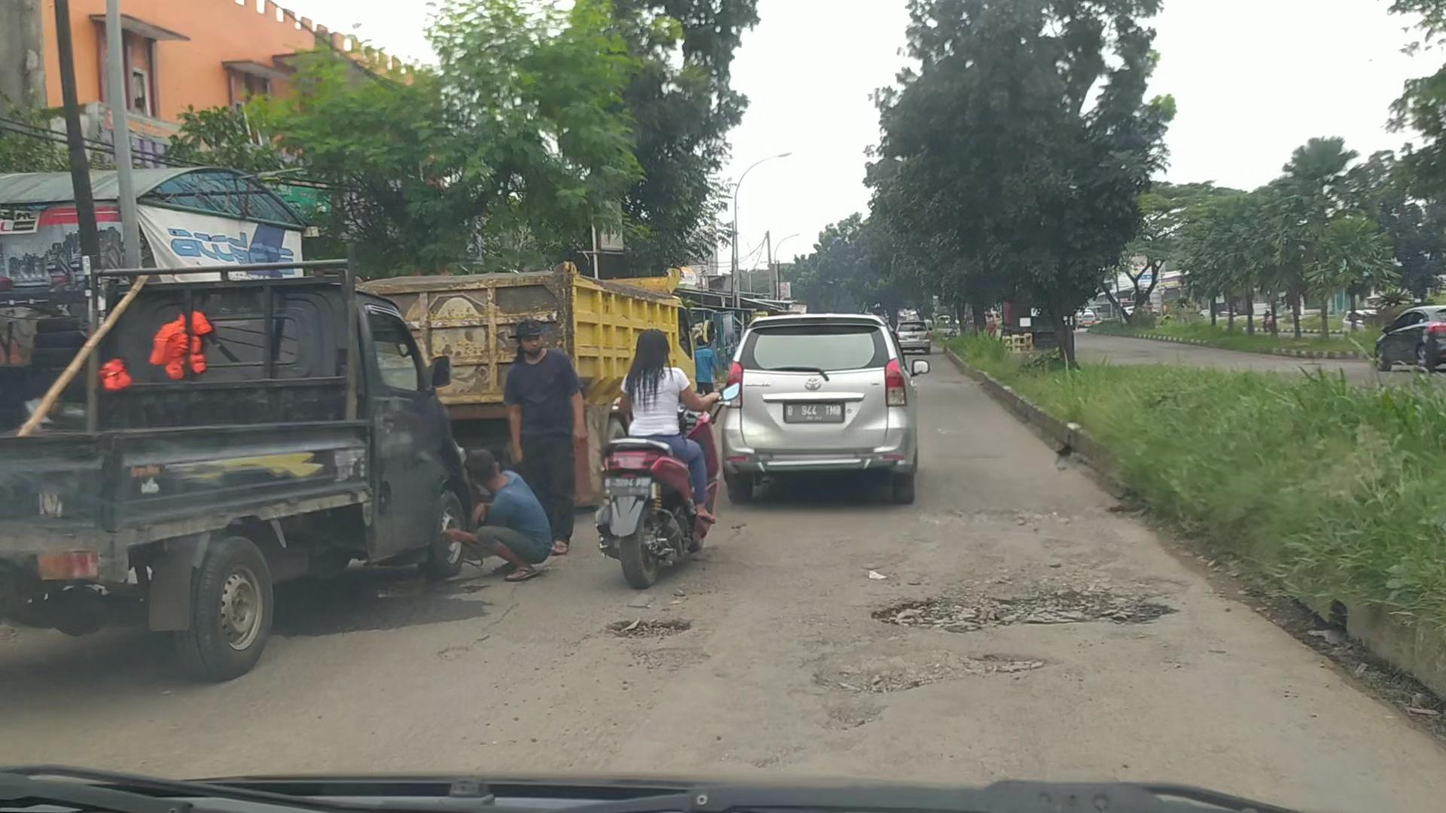pothole: (865, 587, 1180, 636), (809, 652, 1061, 695), (601, 618, 694, 642), (821, 701, 893, 729)
